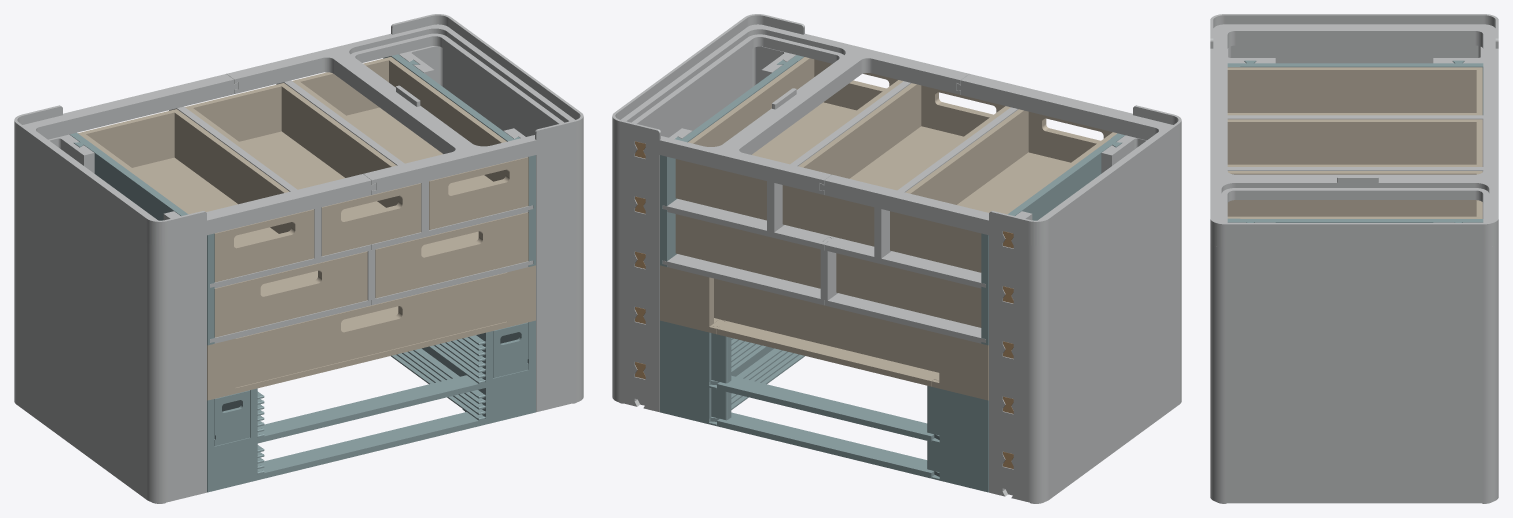
The model's file is stacknest-assembly.glb.
3 renders of one model, left to right at view 1: azimuth 30°, elevation 25°; view 2: azimuth 150°, elevation 25°; view 3: azimuth 270°, elevation 25°, orthographic.
Visible parts, largest first — view 1: F02, E04, E03, F01, C07, E05, E06, B07, C09, D04, D02, D03 (+25 smaller); view 2: F02, F01, E04, E03, E06, E05, C09, B07, D04, C08, A05, E07 (+25 smaller); view 3: F02, D05, E07, B08, C10, E03, E04, F01, A06, E05, E06, E14 (+3 smaller).
Part boxes in pixels (<box>): F02: <box>226,14,583,194</box>; E04: <box>185,83,421,256</box>; E03: <box>78,109,314,282</box>; F01: <box>14,74,375,245</box>; C07: <box>235,272,507,387</box>; E05: <box>292,57,528,229</box>; E06: <box>14,134,206,300</box>; B07: <box>14,310,206,466</box>; C09: <box>14,255,206,411</box>; D04: <box>14,200,206,355</box>; D02: <box>214,251,367,337</box>; D03: <box>375,212,528,298</box>; F02: <box>612,14,969,194</box>; F01: <box>820,74,1181,245</box>; E04: <box>782,83,1010,246</box>; E03: <box>890,109,1116,272</box>; E06: <box>989,135,1181,300</box>; E05: <box>675,57,903,220</box>; C09: <box>989,255,1181,411</box>; B07: <box>989,310,1181,466</box>; D04: <box>989,200,1181,355</box>; C08: <box>714,278,939,372</box>; A05: <box>989,365,1181,503</box>; E07: <box>612,46,795,209</box>; F02: <box>1210,128,1498,247</box>; D05: <box>1210,298,1498,357</box>; E07: <box>1210,222,1498,302</box>; B08: <box>1210,407,1498,466</box>; C10: <box>1210,352,1498,411</box>; E03: <box>1227,67,1482,115</box>; E04: <box>1227,119,1482,166</box>; F01: <box>1210,14,1498,128</box>; A06: <box>1210,462,1498,503</box>; E05: <box>1227,171,1482,218</box>; E06: <box>1227,45,1483,63</box>; E14: <box>1227,60,1483,114</box>.
Bounding box in the file's own units: 0.495 × 0.309 × 0.287.
